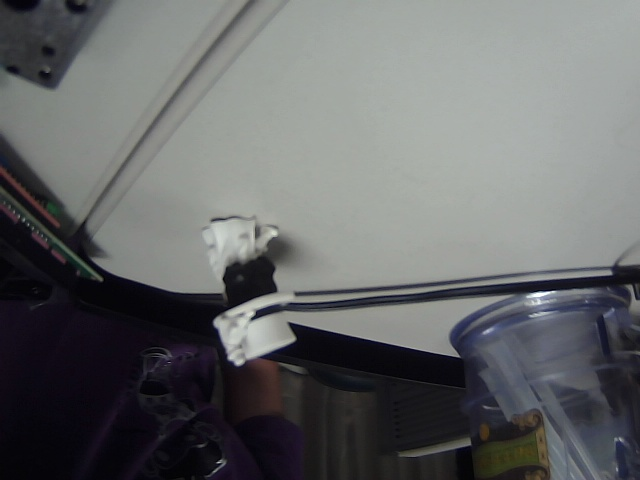lucci: (185, 202, 317, 371)
